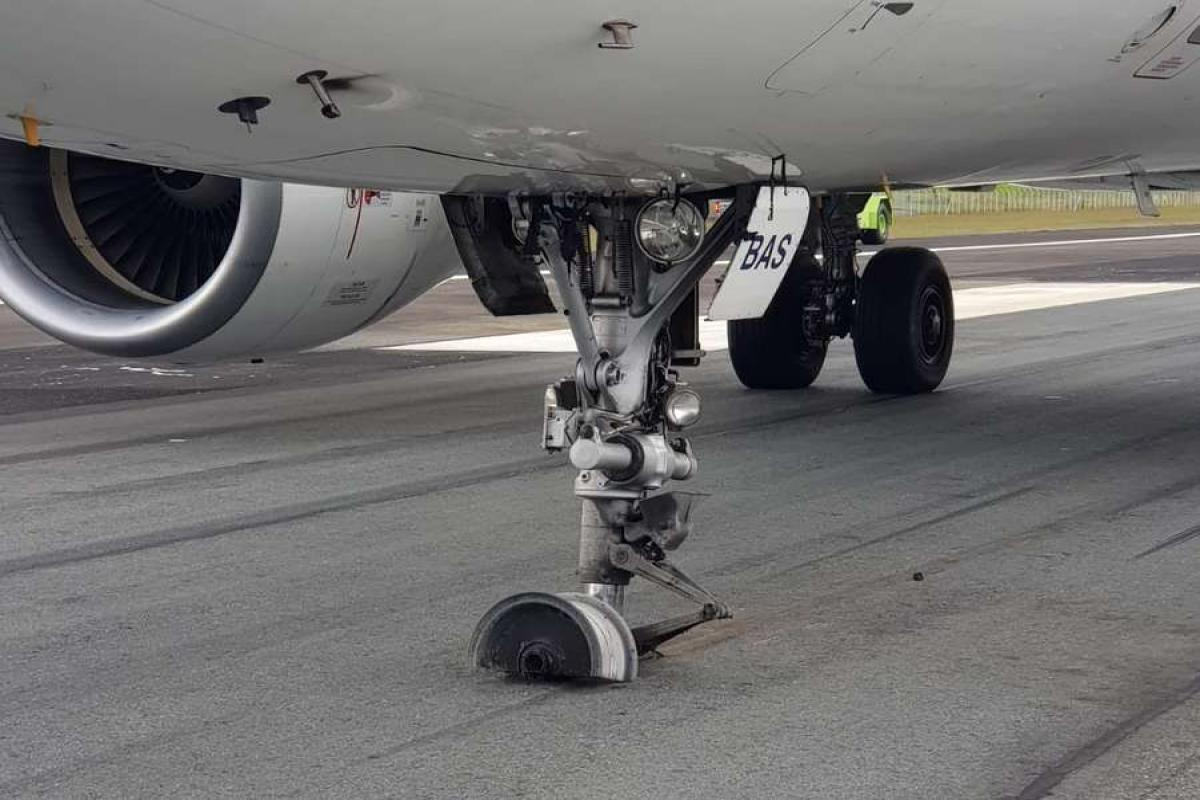Fuselage_damage: (428, 517, 749, 702)
